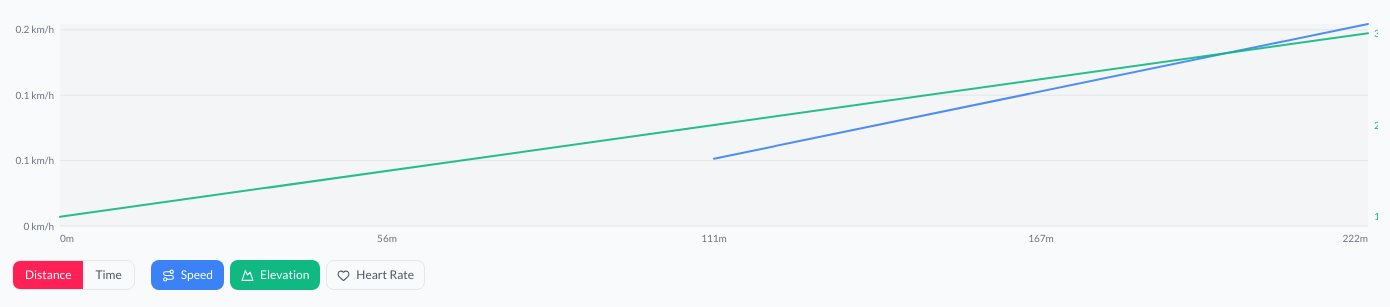
Test: TrackGraph › labels a longer time axis with shorthand durations (30m, 1h, ...)
Click the button "time": (109, 275) [84,261,134,289]
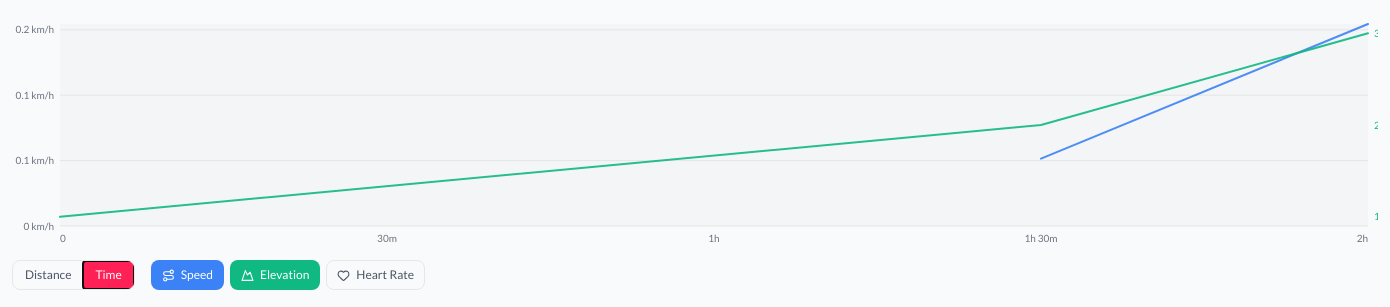
Now the picture named "Track graph" shows "1h", box [708,232,720,244]
Now the picture named "Track graph" shows "1h 30m", box [1024,232,1058,244]
Now the picture named "Track graph" shows "2h", box [1357,232,1368,244]
